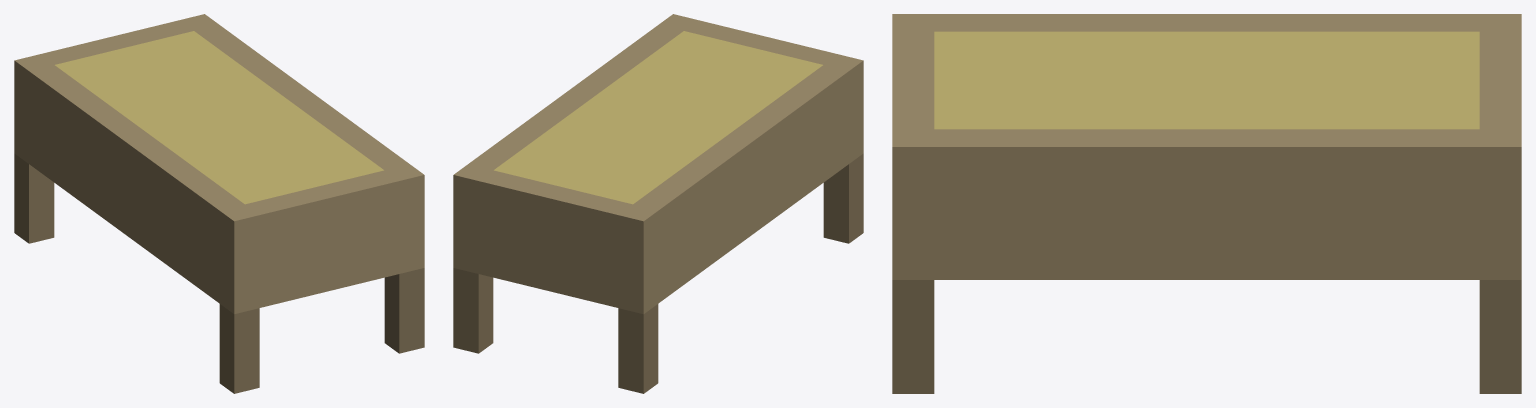
File: pesebre_desgastada_01.glb
The picture shows the model from 3 angles, left to right: view 1: azimuth 30°, elevation 25°; view 2: azimuth 150°, elevation 25°; view 3: azimuth 270°, elevation 25°; orthographic projection. The views are drawn at different scales.
Visible parts, largest first — view 1: pesebre_desgastada; view 2: pesebre_desgastada; view 3: pesebre_desgastada.
Part boxes in pixels (bbox=[...]): pesebre_desgastada: bbox=[14, 14, 424, 393]; pesebre_desgastada: bbox=[453, 14, 863, 393]; pesebre_desgastada: bbox=[892, 14, 1521, 393].
Bounding box in the file's own units: 1 × 0.8667 × 2.
